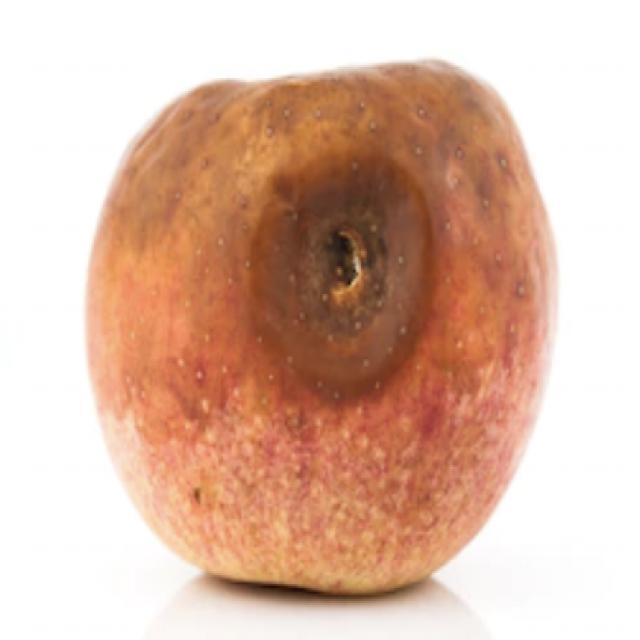Rotten: (76, 47, 556, 603)
